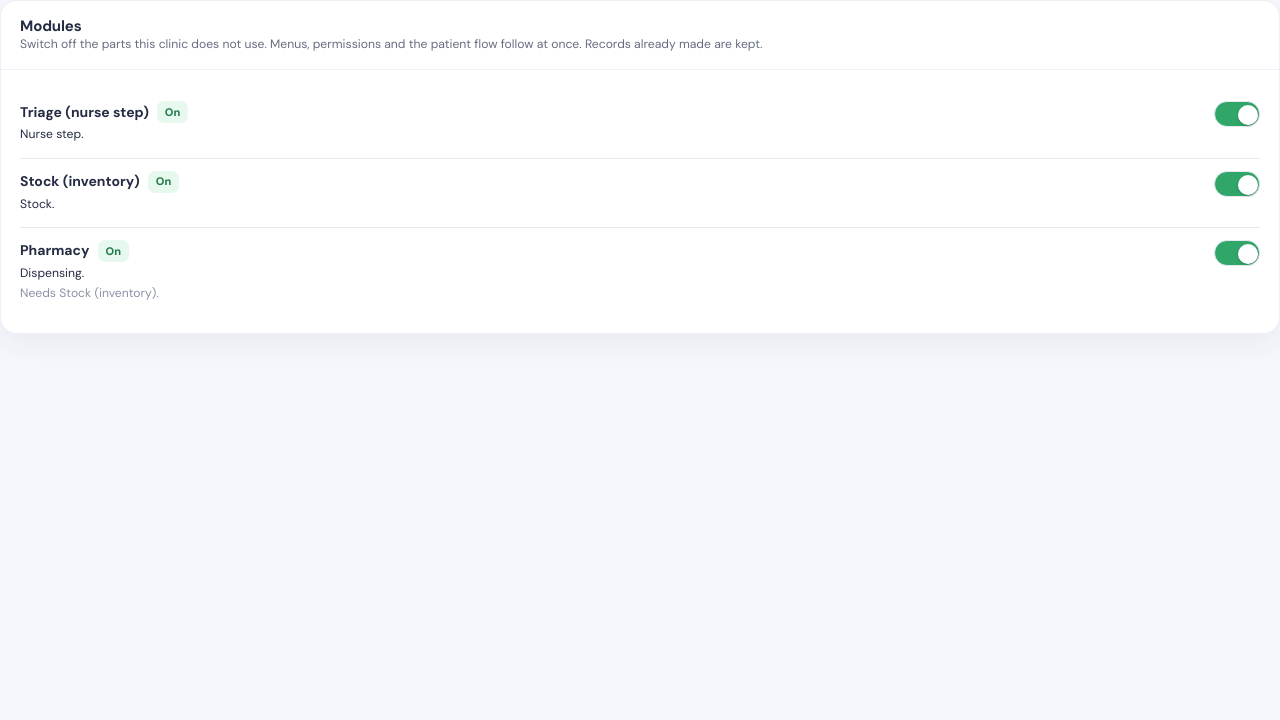
Test case: ModulesPanel › shows the unfinished work when the server refuses
This screenshot has width=1280, height=720.
Click the switch named "Triage (nurse step)" in the row of "Triage (nurse step)". click: (1237, 114)
box: [1214,101,1260,127]
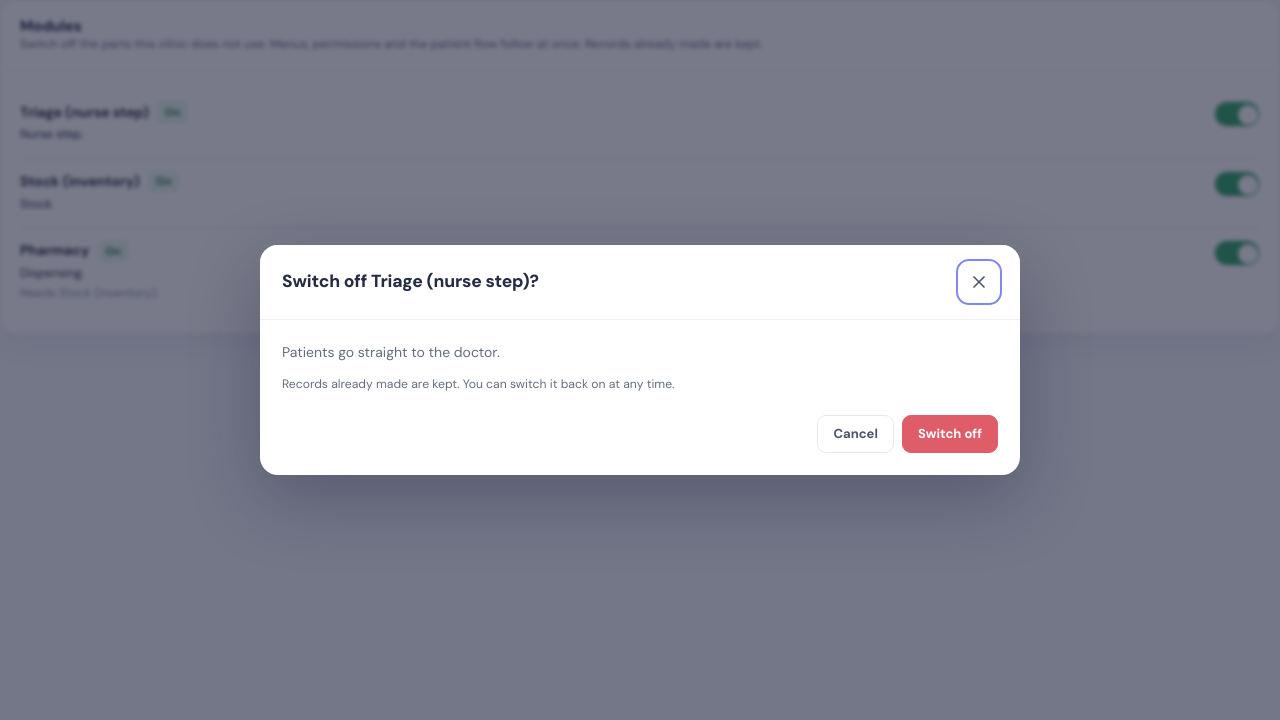
Click the button "Switch off". click: (950, 434)
box: [902,415,998,453]
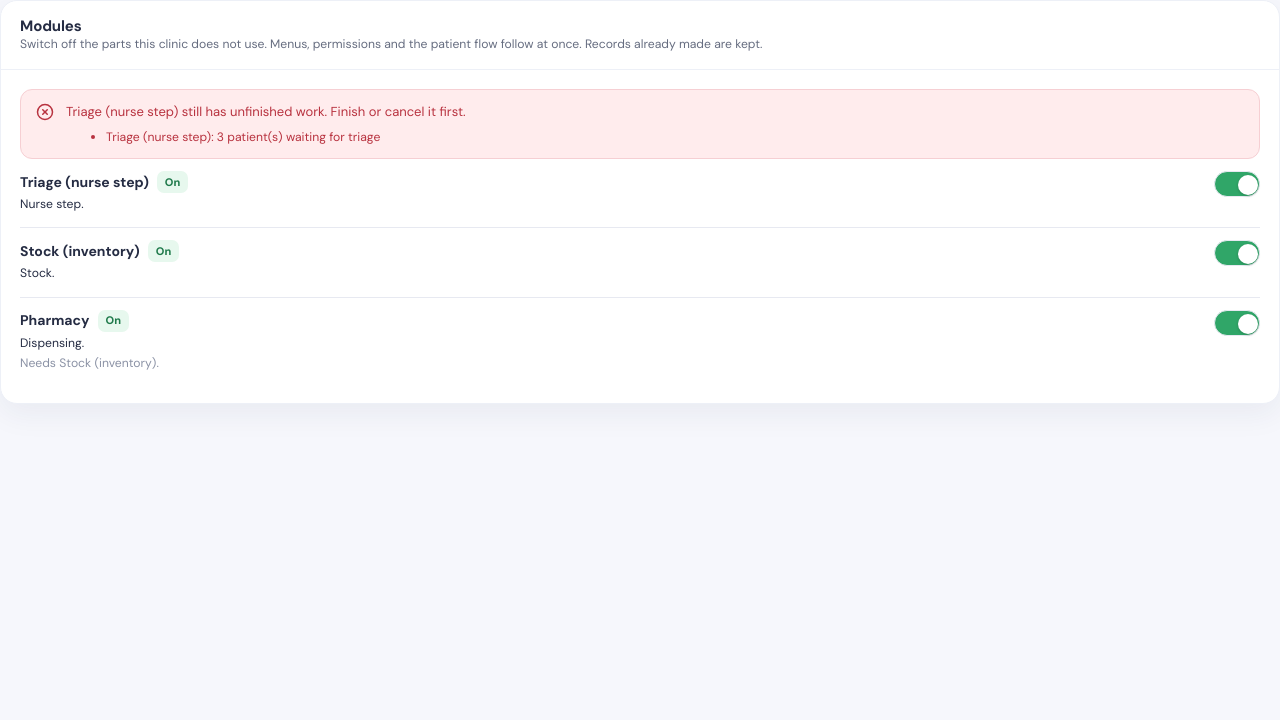
Expected: the list item "Triage (nurse step): 3 patient(s) waiting for triage" is shown, [106,129,380,145]
